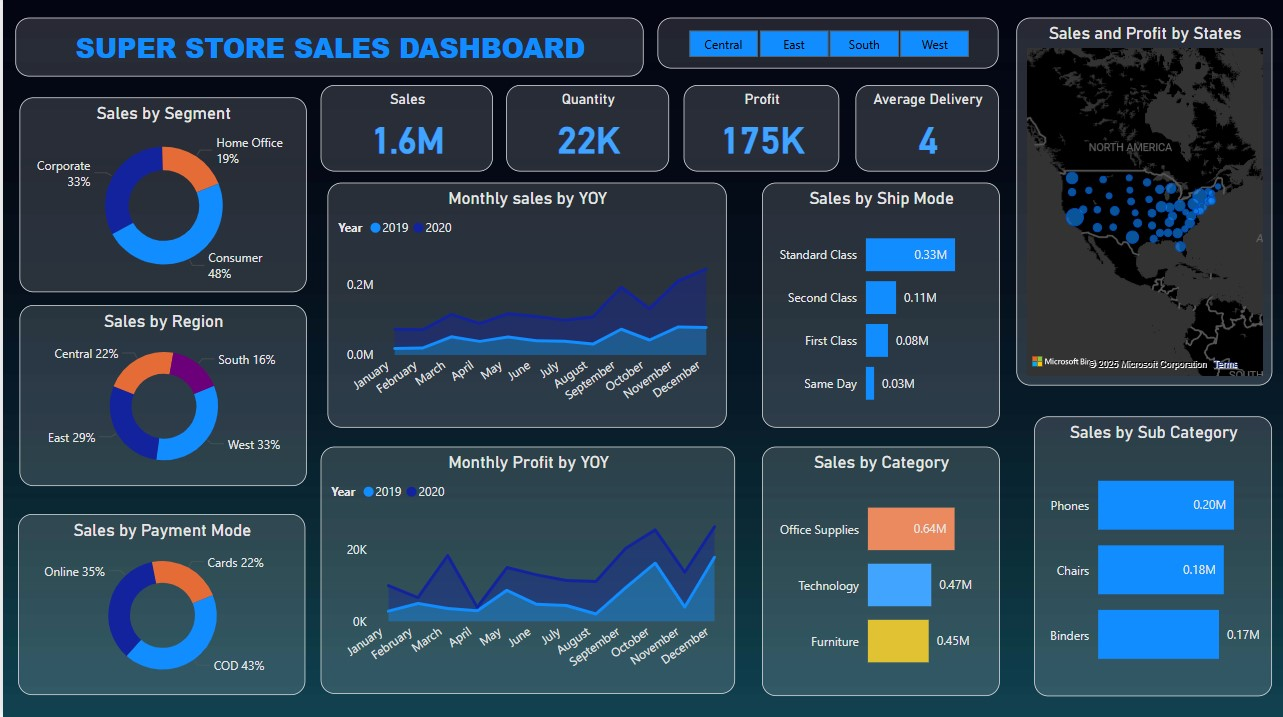

The page's visual inventory and layout, read from the dashboard file:
{"tool":"powerbi","page":{"name":"Sales Dashboard","canvas":[1280,720],"ordinal":0},"visuals":[{"type":"clusteredBarChart","title":"Sales by Category","fields":{"Category":["SuperStore Sales DataSet.Category"],"Y":["Sum(SuperStore Sales DataSet.Sales)"]},"box":[758.6,449.8,237.6,249.6],"z":0},{"type":"clusteredBarChart","title":"Sales by Sub Category","fields":{"Category":["SuperStore Sales DataSet.Sub-Category"],"Y":["Sum(SuperStore Sales DataSet.Sales)"]},"box":[1031.4,418.9,237.6,280.2],"z":1000},{"type":"clusteredBarChart","title":"Sales by Ship Mode","fields":{"Category":["SuperStore Sales DataSet.Ship Mode"],"Y":["Sum(SuperStore Sales DataSet.Sales)"]},"box":[759.8,185.7,237.6,244.8],"z":2000},{"type":"stackedAreaChart","title":"Monthly sales by YOY","fields":{"Y":["Sum(SuperStore Sales DataSet.Sales)"],"Category":["SuperStore Sales DataSet.Order Date.Variation.Date Hierarchy.Month"],"Series":["SuperStore Sales DataSet.Order Date.Variation.Date Hierarchy.Year"]},"box":[324.4,185.7,399.2,244.8],"z":3000},{"type":"stackedAreaChart","title":"Monthly Profit by YOY","fields":{"Category":["SuperStore Sales DataSet.Order Date.Variation.Date Hierarchy.Month"],"Series":["SuperStore Sales DataSet.Order Date.Variation.Date Hierarchy.Year"],"Y":["Sum(SuperStore Sales DataSet.Profit)"]},"box":[317.2,449.8,414.9,247.2],"z":4000},{"type":"map","title":"Sales and Profit by States","fields":{"Category":["SuperStore Sales DataSet.State"],"Size":["Sum(SuperStore Sales DataSet.Sales)"]},"box":[1013.1,20.5,255.7,367.8],"z":5000},{"type":"donutChart","title":"Sales by Segment","fields":{"Category":["SuperStore Sales DataSet.Segment"],"Y":["Sum(SuperStore Sales DataSet.Sales)"]},"box":[16.5,100.3,287,195],"z":6000},{"type":"donutChart","title":"Sales by Region","fields":{"Category":["SuperStore Sales DataSet.Region"],"Y":["Sum(SuperStore Sales DataSet.Sales)"]},"box":[16.9,308.7,287,180.9],"z":7000},{"type":"donutChart","title":"Sales by Payment Mode","fields":{"Category":["SuperStore Sales DataSet.Payment Mode"],"Y":["Sum(SuperStore Sales DataSet.Sales)"]},"box":[15.1,517.8,287,181.3],"z":8000},{"type":"slicer","fields":{"Values":["SuperStore Sales DataSet.Region"]},"box":[654.9,20.5,341.3,50.7],"z":9000},{"type":"textbox","box":[12.1,20.5,628.3,59.1],"z":10000},{"type":"card","title":"Sales","fields":{"Values":["Sum(SuperStore Sales DataSet.Sales)"]},"box":[317.2,88,172.5,86.8],"z":11000},{"type":"card","title":"Quantity","fields":{"Values":["Sum(SuperStore Sales DataSet.Quantity)"]},"box":[502.9,88,162.8,86.8],"z":12000},{"type":"card","title":"Profit","fields":{"Values":["Sum(SuperStore Sales DataSet.Profit)"]},"box":[680.2,88,155.6,86.8],"z":13000},{"type":"card","title":"Average Delivery","fields":{"Values":["Avg(SuperStore Sales DataSet.Avg Delivery)"]},"box":[852.7,88,143.5,86.8],"z":14000}]}

Visuals, with their boxes in screenshot pixels (x1, y1, x2, y2), scaled from the page's 1280x720 canvas onto the 1283x717 screenshot:
"Sales by Category" clusteredBarChart: 760, 448, 999, 696
"Sales by Sub Category" clusteredBarChart: 1034, 417, 1272, 696
"Sales by Ship Mode" clusteredBarChart: 762, 185, 1000, 429
"Monthly sales by YOY" stackedAreaChart: 325, 185, 725, 429
"Monthly Profit by YOY" stackedAreaChart: 318, 448, 734, 694
"Sales and Profit by States" map: 1015, 20, 1272, 387
"Sales by Segment" donutChart: 17, 100, 304, 294
"Sales by Region" donutChart: 17, 307, 305, 488
"Sales by Payment Mode" donutChart: 15, 516, 303, 696
slicer - SuperStore Sales DataSet.Region: 656, 20, 999, 71
textbox: 12, 20, 642, 79
"Sales" card: 318, 88, 491, 174
"Quantity" card: 504, 88, 667, 174
"Profit" card: 682, 88, 838, 174
"Average Delivery" card: 855, 88, 999, 174
